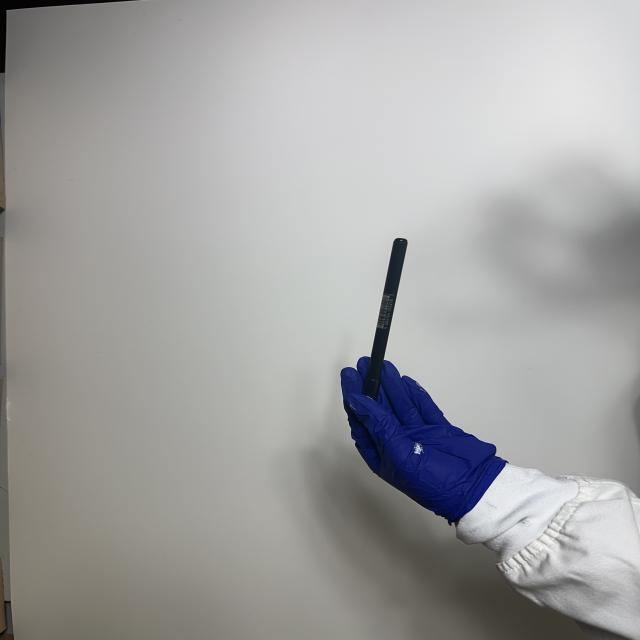gloves_contaminated: (341, 357, 506, 524)
